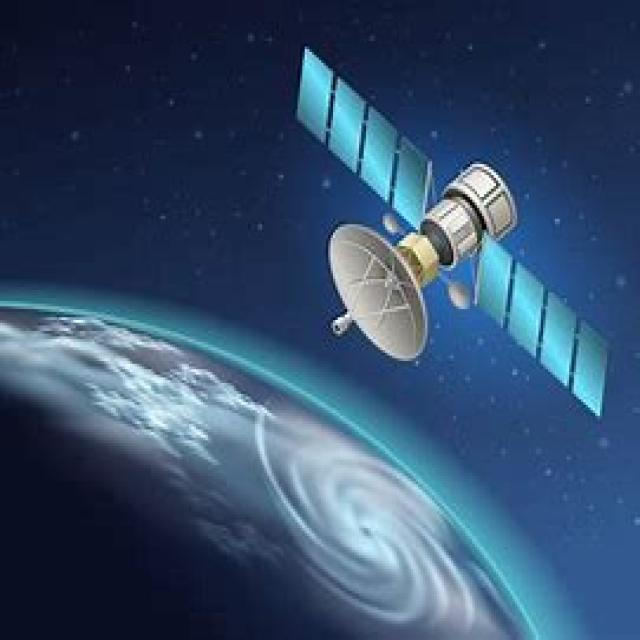satellite: (278, 38, 626, 418)
